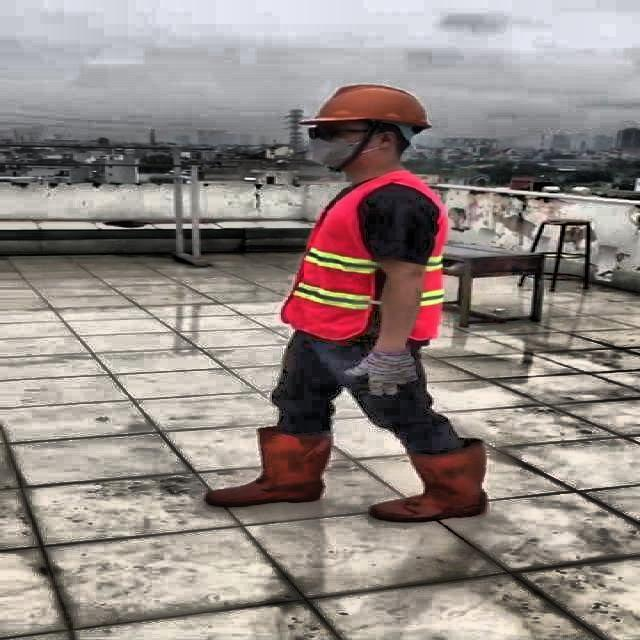safety_helmet: (312, 81, 437, 130)
safety_jacket: (283, 173, 447, 343)
